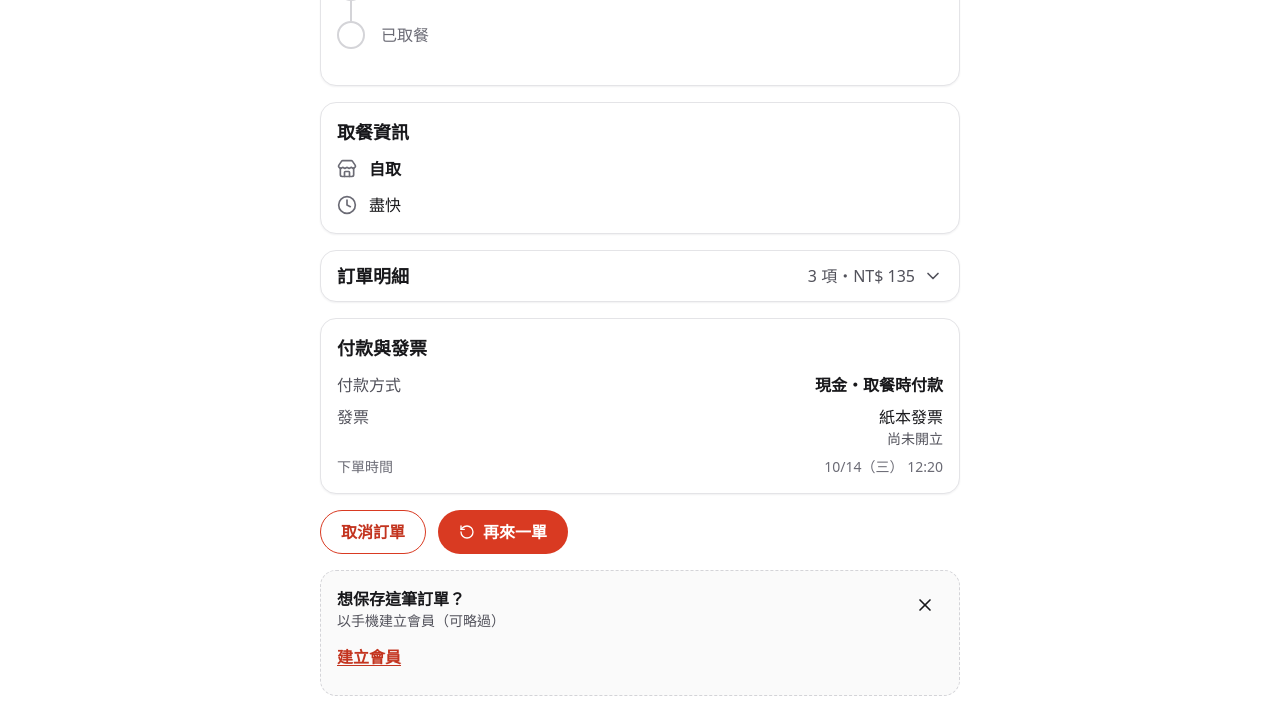
Test: OrderPage：取消訂單 › 「保留訂單」不呼叫 API
(page scrolled)
Click the button "取消訂單" at x=373, y=532, box left=320, top=510, right=426, bottom=554
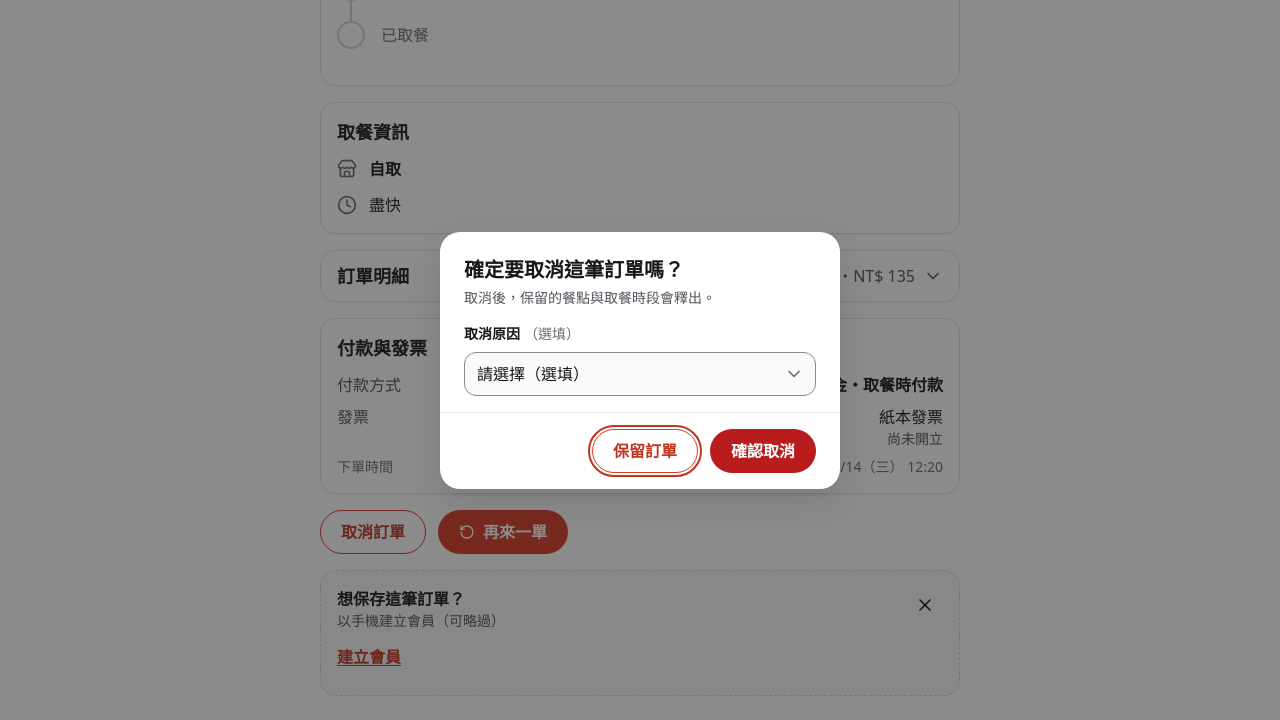
Click the button "保留訂單" at x=645, y=450, box left=592, top=428, right=698, bottom=472
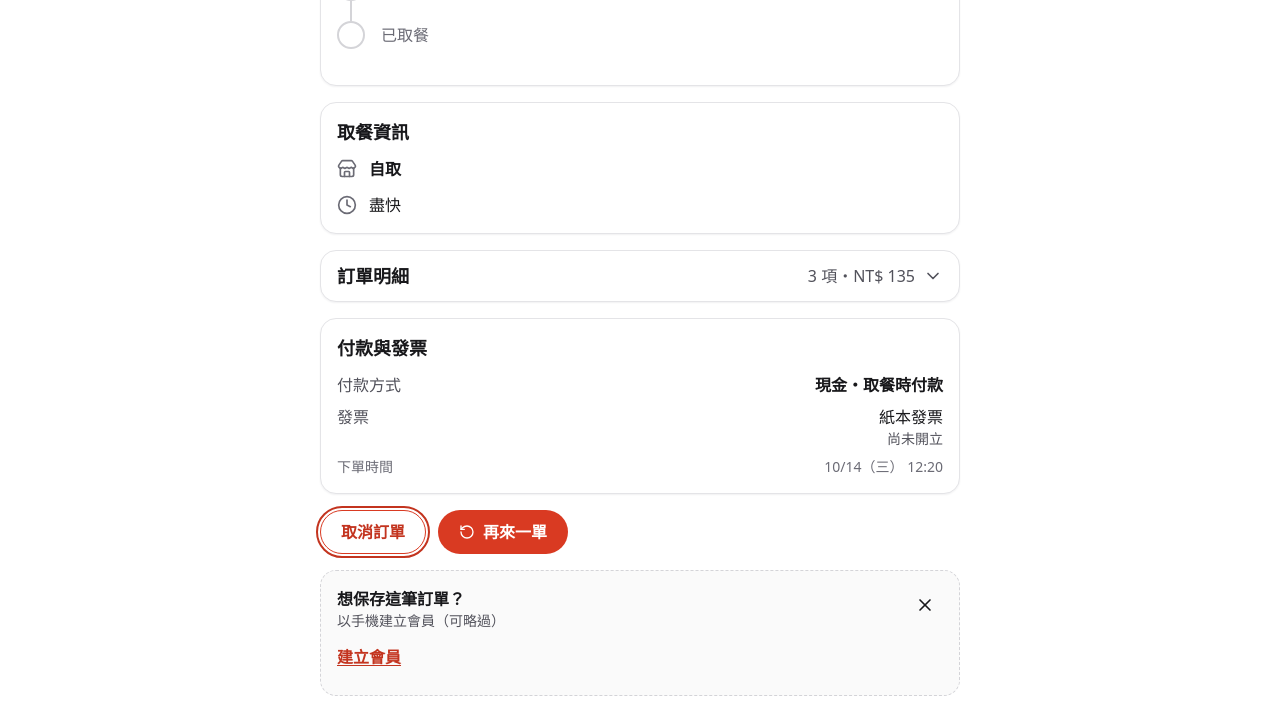
Check: the dialog is gone
